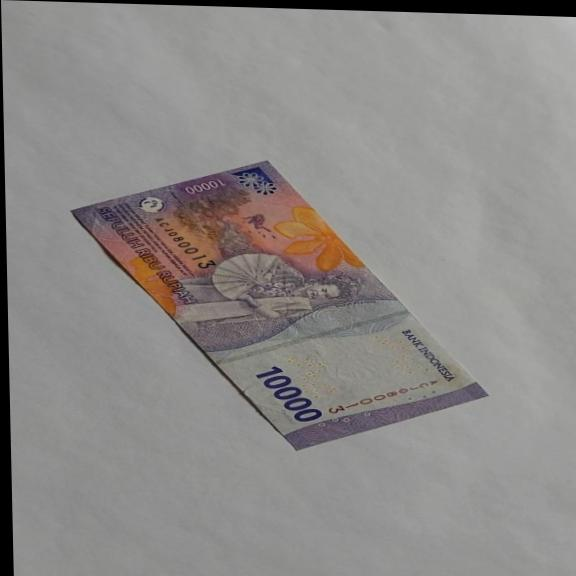Kertas: (68, 153, 491, 457), (253, 365, 324, 423)
